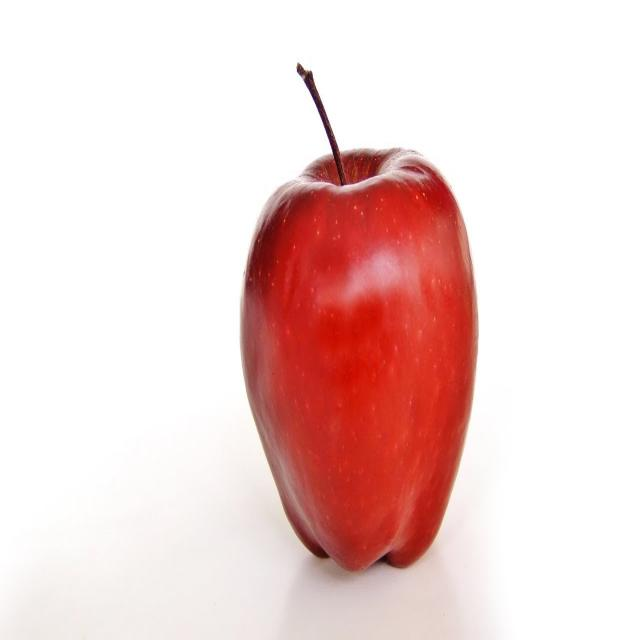Apple: (235, 56, 481, 581)
